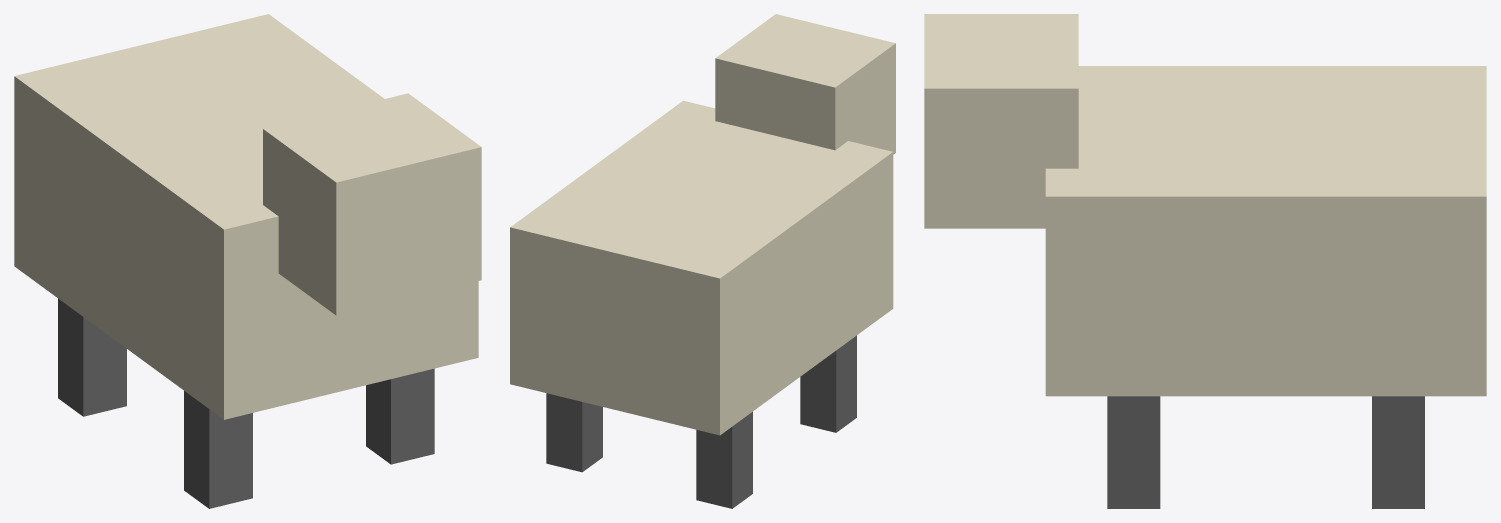
The model's file is Mob_DS_ByteHen_Adult2.glb.
3 renders of one model, left to right at view 1: azimuth 30°, elevation 25°; view 2: azimuth 150°, elevation 25°; view 3: azimuth 270°, elevation 25°, orthographic. The views are drawn at different scales.
Visible parts, largest first — view 1: Cube.004, Cube.005, Cube, Cube.001, Cube.002; view 2: Cube.004, Cube.005, Cube.001, Cube, Cube.003; view 3: Cube.004, Cube.005, Cube.002, Cube.003.
Part boxes in pixels (x1,y1,x2,y2): Cube.004: (14, 14, 478, 419); Cube.005: (263, 93, 481, 315); Cube: (184, 391, 252, 508); Cube.001: (58, 298, 126, 416); Cube.002: (366, 368, 434, 464); Cube.004: (510, 100, 893, 435); Cube.005: (715, 14, 895, 154); Cube.001: (696, 411, 752, 508); Cube: (800, 335, 856, 432); Cube.003: (546, 393, 602, 472); Cube.004: (1045, 66, 1486, 396); Cube.005: (924, 14, 1078, 228); Cube.002: (1107, 396, 1160, 508); Cube.003: (1372, 396, 1424, 508).
Bounding box in the file's own units: 0.385 × 0.55 × 0.7013.
